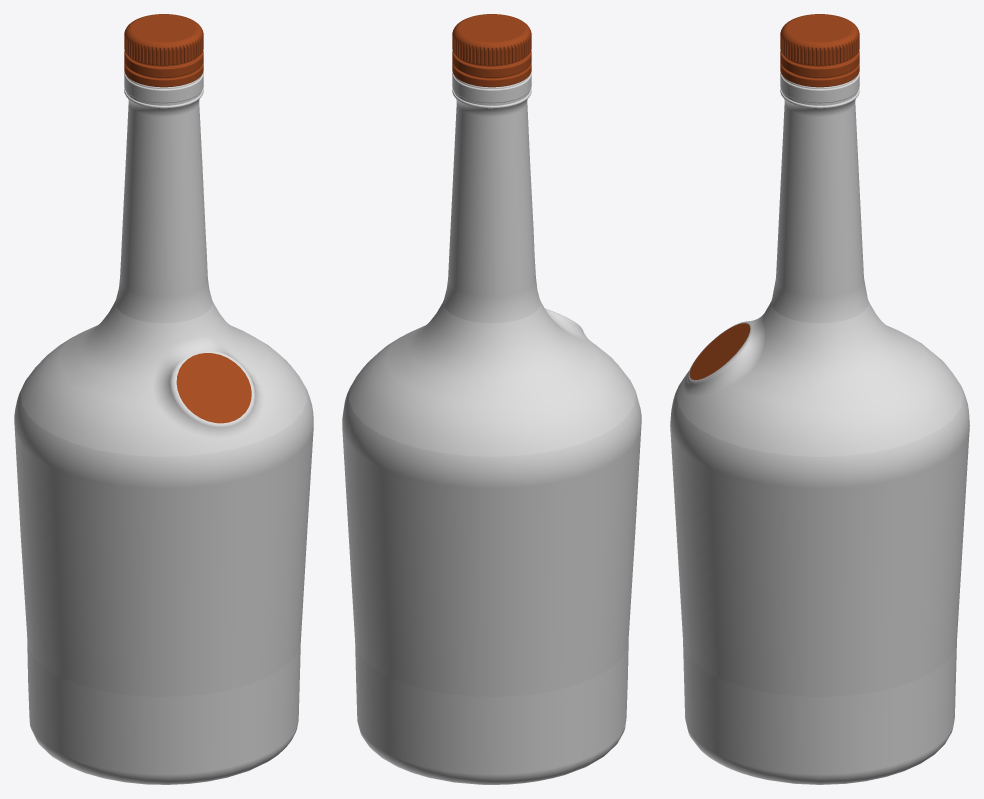
3 renders of one model, left to right at view 1: azimuth 30°, elevation 25°; view 2: azimuth 150°, elevation 25°; view 3: azimuth 270°, elevation 25°, orthographic.
Parts seen in each view (by area): view 1: Body1, cap.001; view 2: Body1, cap.001; view 3: Body1, cap.001.
Part boxes in pixels (x1=…): Body1: x1=14, y1=65, x2=313, y2=784; cap.001: x1=124, y1=14, x2=203, y2=87; Body1: x1=342, y1=72, x2=641, y2=784; cap.001: x1=452, y1=14, x2=531, y2=87; Body1: x1=670, y1=73, x2=969, y2=784; cap.001: x1=780, y1=14, x2=859, y2=87.
Bounding box in the file's own units: 0.0981 × 0.2555 × 0.0981.
